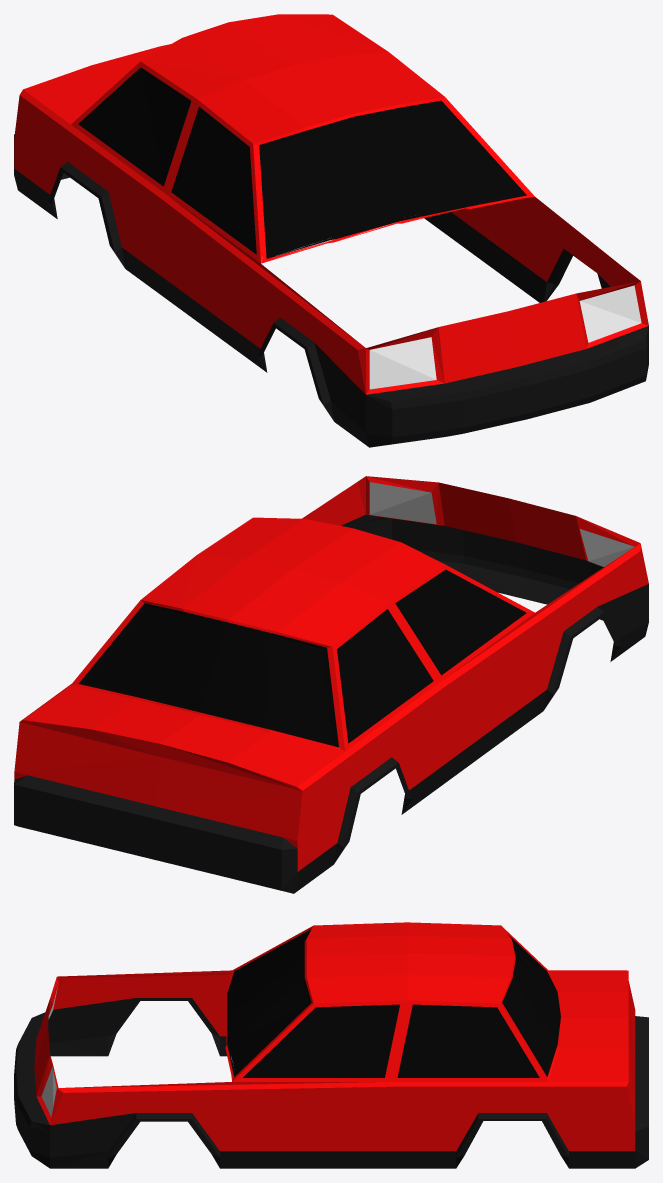
File: Carro.fbx
3 views of the same model, one above another, from view 1: azimuth 30°, elevation 25°; view 2: azimuth 150°, elevation 25°; view 3: azimuth 270°, elevation 25° (orthographic). The views are drawn at different scales.
Visible parts, largest first — view 1: Car; view 2: Car; view 3: Car.
Part boxes in pixels (box(x1,y1,x2,y2)): Car: box(14, 14, 648, 447); Car: box(14, 476, 648, 893); Car: box(14, 922, 648, 1168).
Size of the model in its own units: 2.1 by 1.29 by 4.66.
